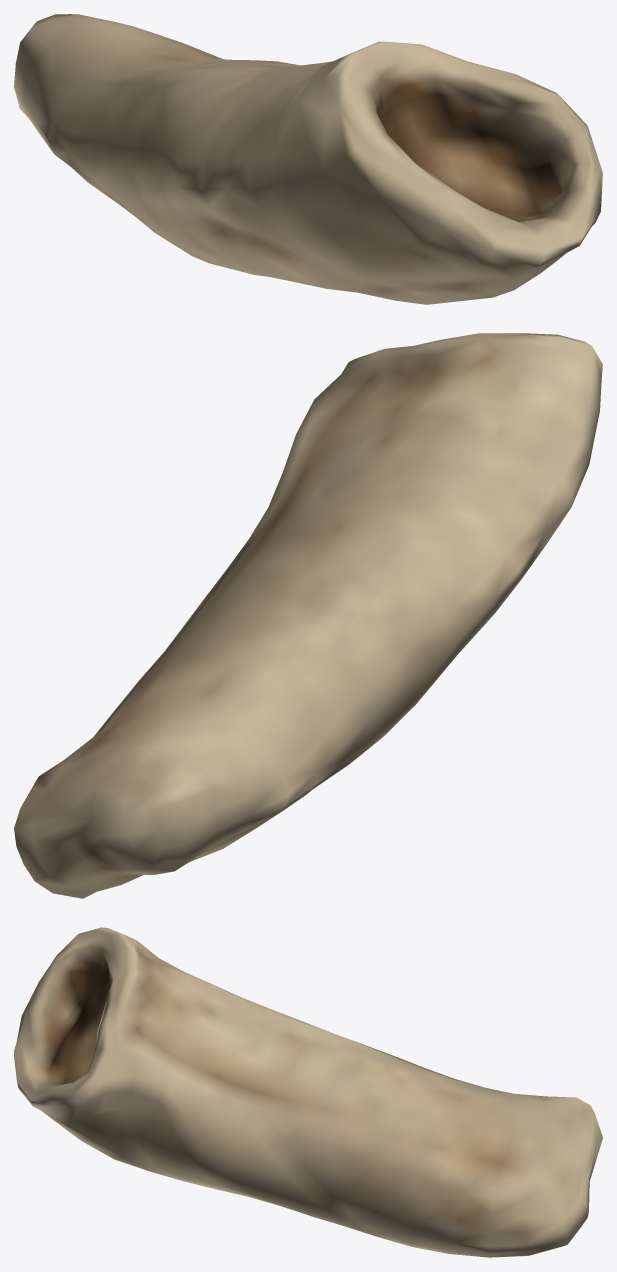
The model's file is Lower_Incisor2.glb.
3 renders of one model, top to bottom at view 1: azimuth 30°, elevation 25°; view 2: azimuth 150°, elevation 25°; view 3: azimuth 270°, elevation 25°, orthographic. The views are drawn at different scales.
Visible parts, largest first — view 1: Group16399_Mesh.004; view 2: Group16399_Mesh.004; view 3: Group16399_Mesh.004.
Boxes of the visible parts, x1,y1,x2,y2 form: Group16399_Mesh.004: (14, 14, 602, 304); Group16399_Mesh.004: (14, 333, 602, 898); Group16399_Mesh.004: (14, 927, 602, 1257).
Size of the model in its own units: 0.0129 by 0.0167 by 0.0331.
Materials: 1 (1 with a texture image).
